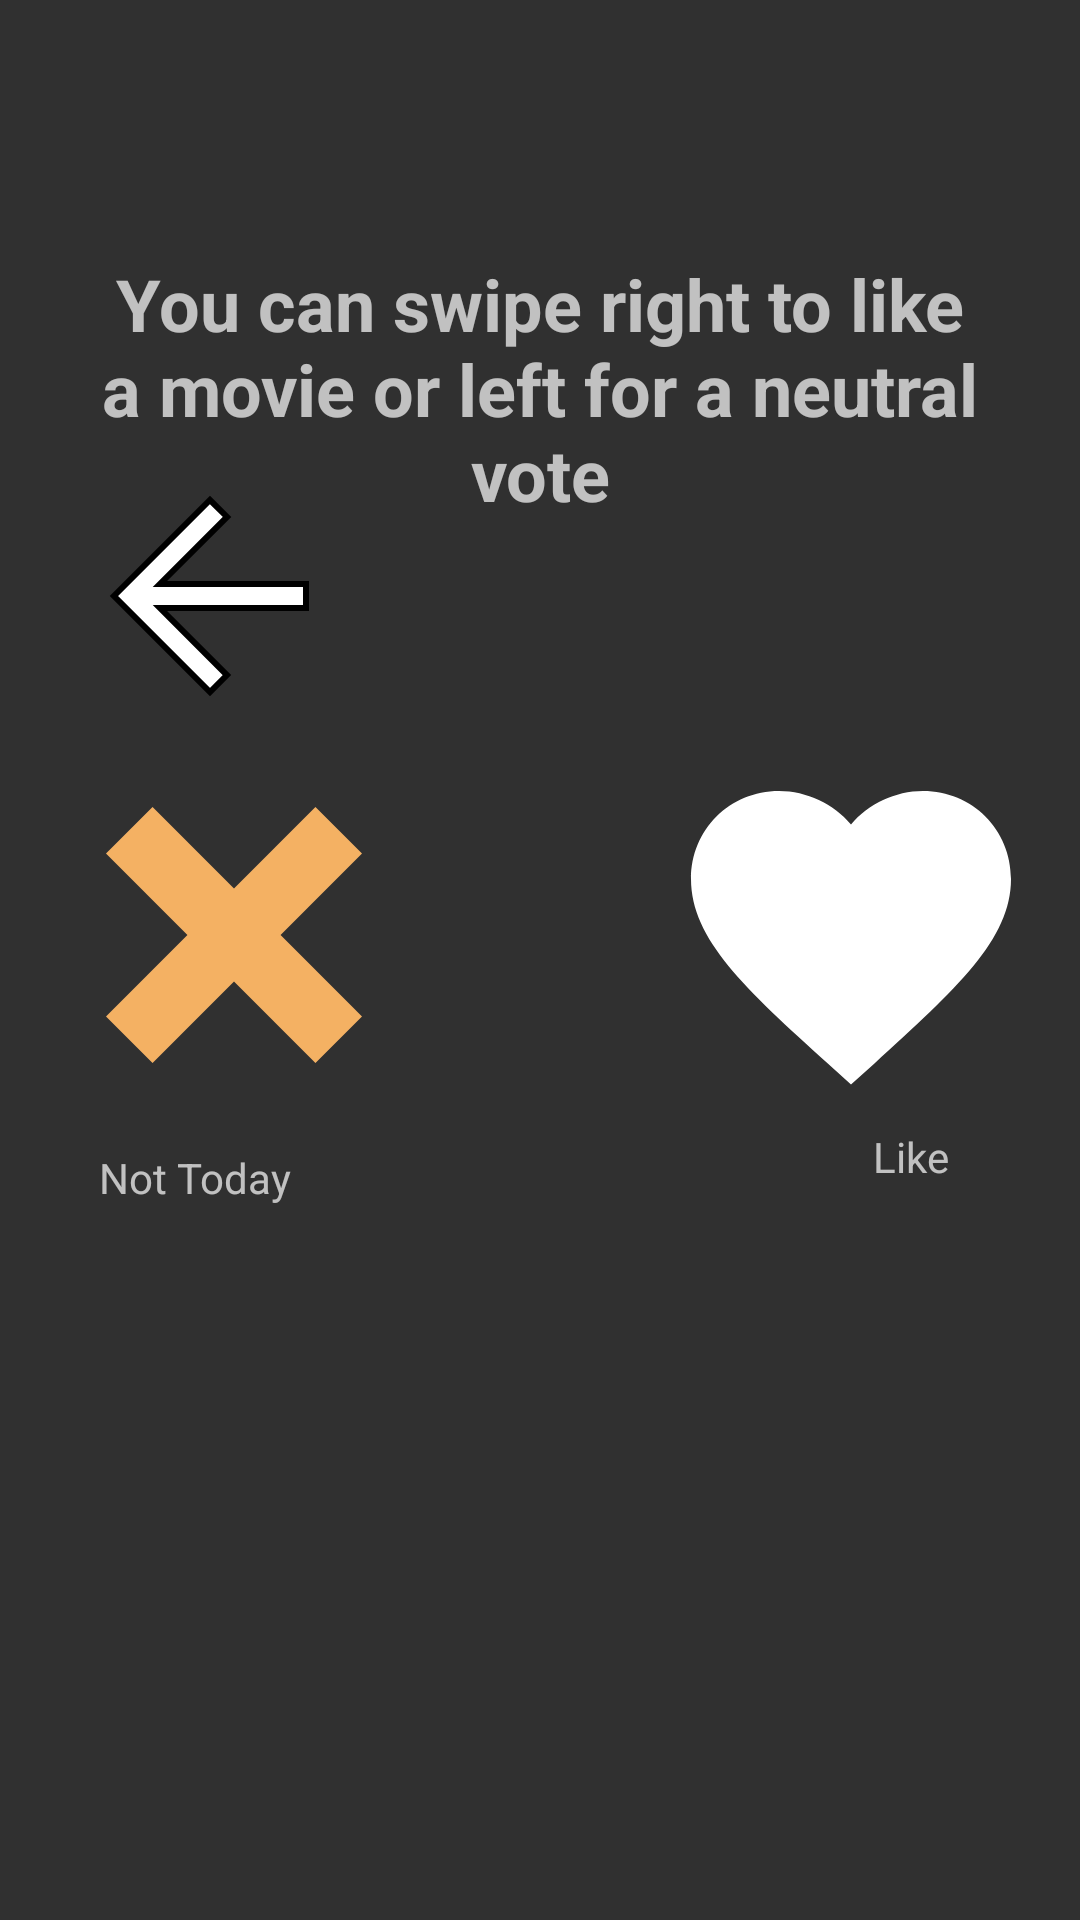

Point at icon controls on the screen. Image size 1080 x 1920, points as (x,y).
arrow back: (209,596)
close thick: (234,935)
favorite: (851,938)
